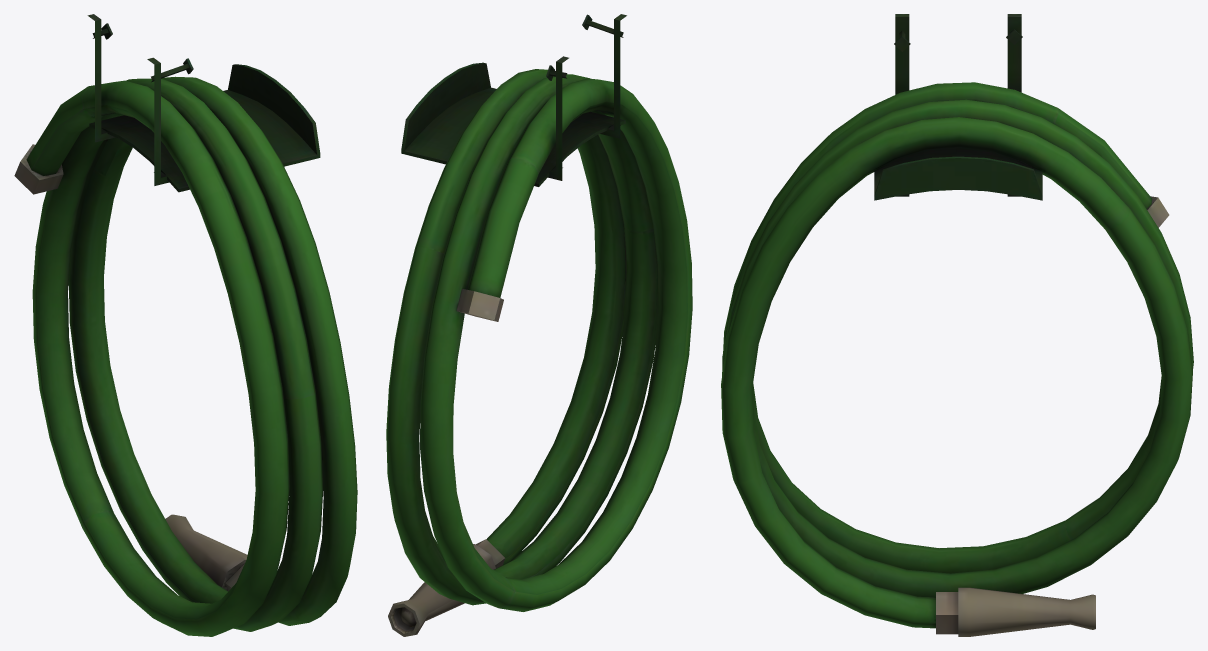
The picture shows the model from 3 angles, left to right: view 1: azimuth 30°, elevation 25°; view 2: azimuth 150°, elevation 25°; view 3: azimuth 270°, elevation 25°; orthographic projection. The views are drawn at different scales.
Parts seen in each view (by area): view 1: body0_model0_lod0_mesh0; view 2: body0_model0_lod0_mesh0; view 3: body0_model0_lod0_mesh0.
Boxes of the visible parts, box(x1,y1,x2,y2) form: body0_model0_lod0_mesh0: box(14, 14, 357, 636); body0_model0_lod0_mesh0: box(386, 14, 692, 636); body0_model0_lod0_mesh0: box(721, 14, 1193, 636).
Size of the model in its own units: 15.15 by 55.59 by 42.16.
1 material, 1 textured.
